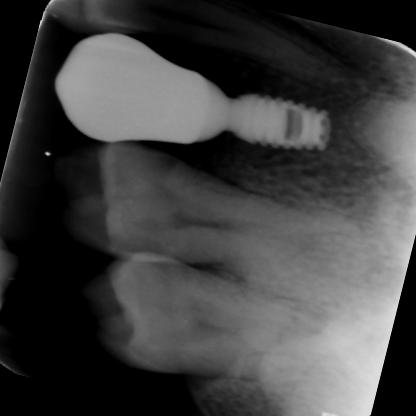Bicon: (208, 68, 357, 185)
